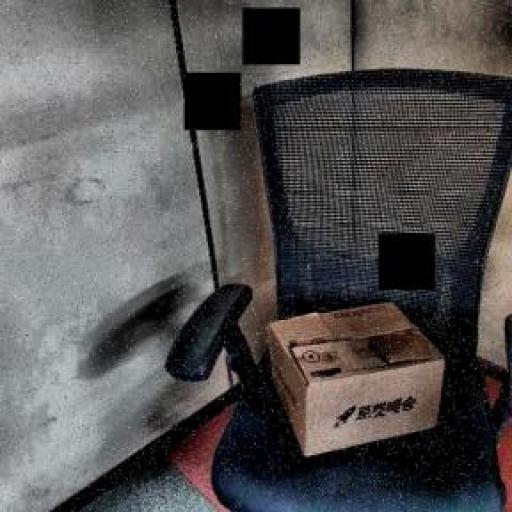box: (259, 299, 456, 462)
